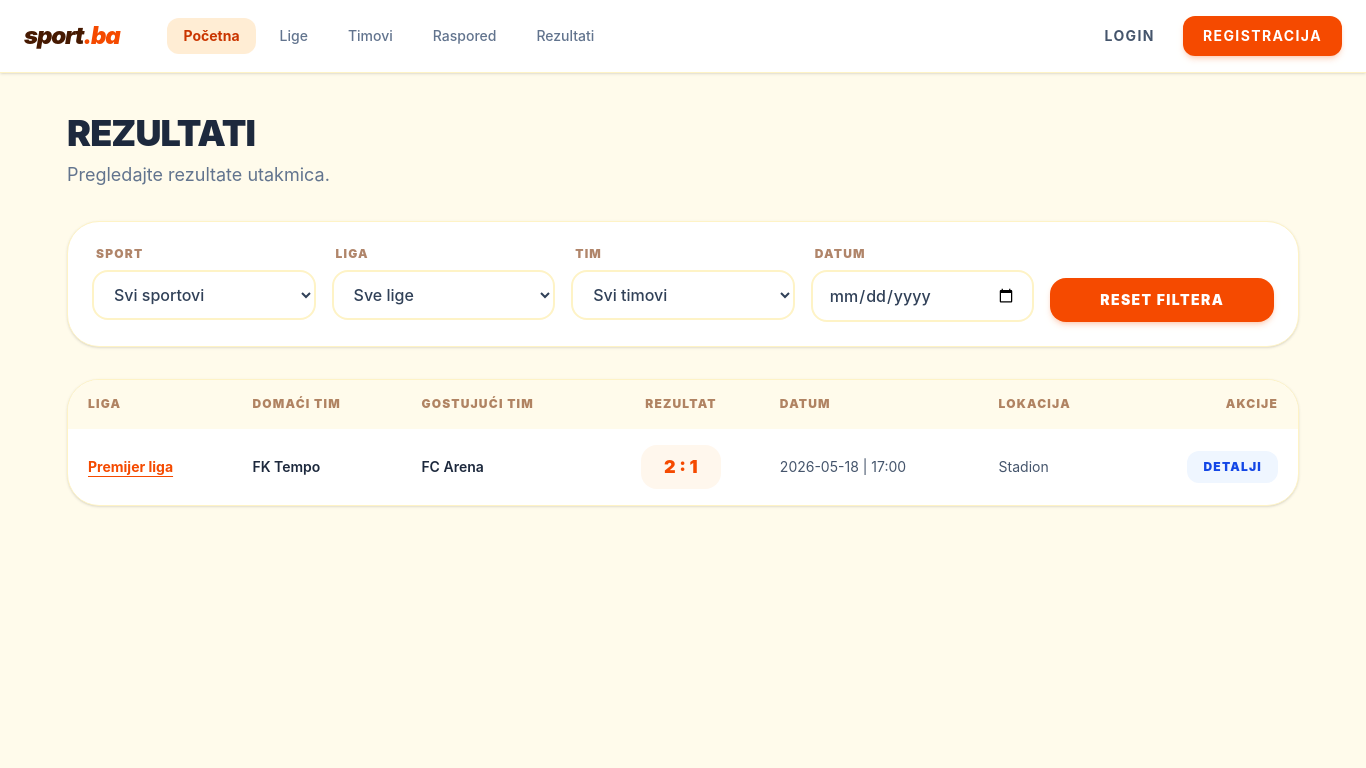
Scenario: Rezultati page › prikazuje lidere statistike kada je odabrana liga
Check: the text "FC Arena" is shown, box [401,428,602,505]
Step 1. Select "Premijer liga" in the dropdown labelled "Liga" → (443, 295), box [332,270,555,320]
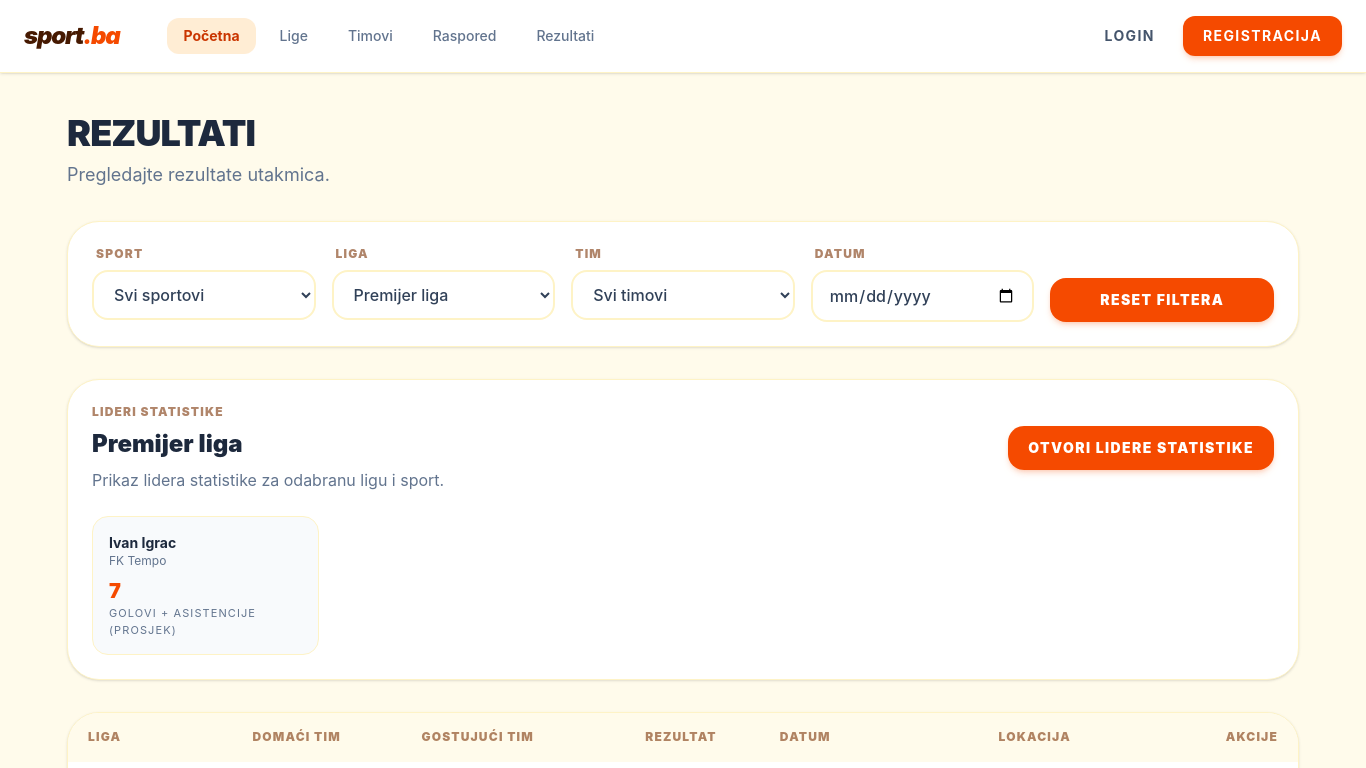
Check: the text "Lideri statistike" is shown, box [92,404,224,419]
Check: the text "Ivan Igrac" is shown, box [109,534,176,551]
